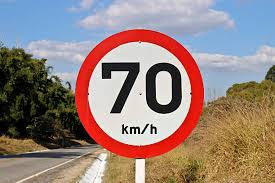Speed_limit_70km: (73, 30, 205, 161)
